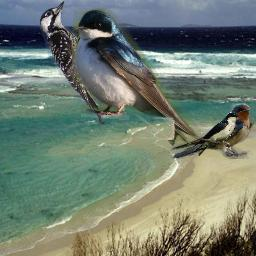Swallow: (72, 8, 201, 153), (157, 103, 254, 159), (188, 112, 238, 156)
Woodpecker: (39, 0, 103, 122)
